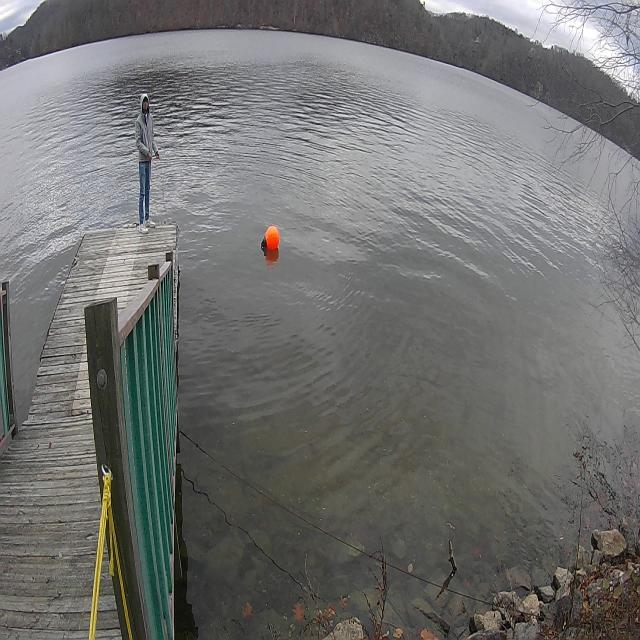Buoy: (259, 219, 282, 261)
